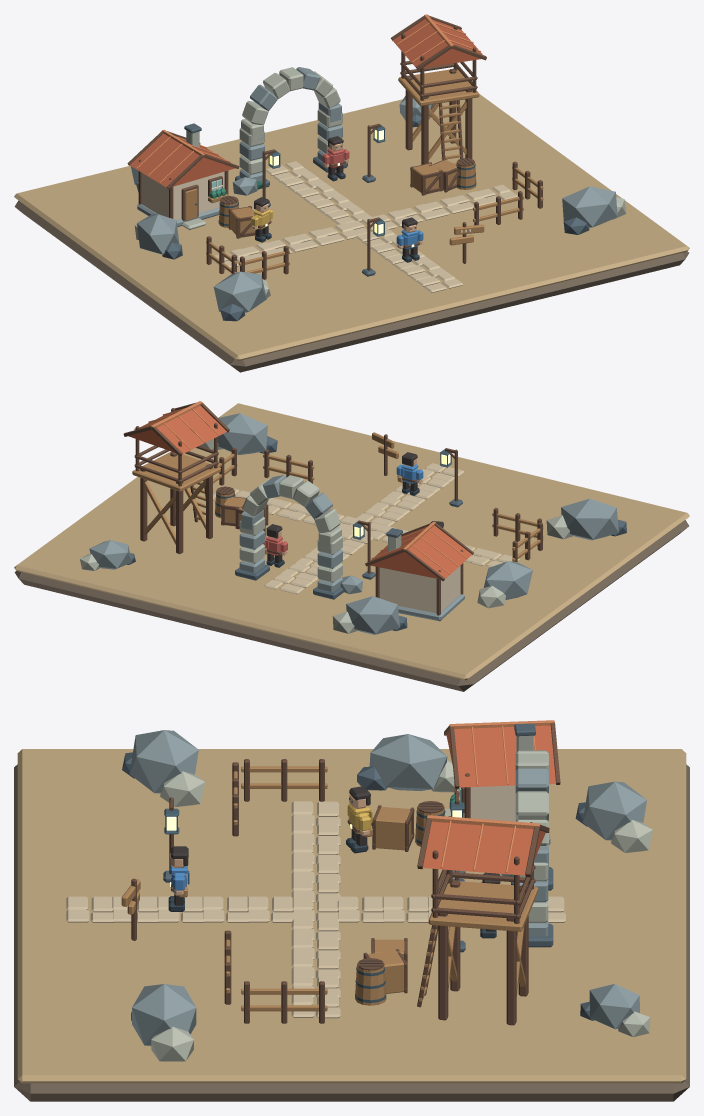
The model's file is abandoned-outpost.glb.
The picture shows the model from 3 angles, top to bottom: view 1: azimuth 30°, elevation 25°; view 2: azimuth 150°, elevation 25°; view 3: azimuth 270°, elevation 25°; orthographic projection. The views are drawn at different scales.
Visible parts, largest first — view 1: terrain-top, terrain-stratum, cottage-roof.001, tower-canopy.001, plaster-walls.001, rock.009, rock.003, tower-deck.001, rock.006; view 2: terrain-top, terrain-stratum, cottage-roof.001, plaster-walls.001, tower-canopy.001, rock.003, rock.015, rock.009, tower-deck.001, rock.006, rock.012, foundation.001 (+5 smaller); view 3: terrain-top, terrain-stratum, tower-canopy.001, cottage-roof.001, rock.006, rock.003, tower-deck.001, rock.009, rock.015, rock.012, plaster-walls.001, crate-body.003 (+11 smaller).
Part boxes in pixels (x1,y1,x2,y2): terrain-top: (14,94,689,360); terrain-stratum: (14,200,688,372); cottage-roof.001: (129,133,234,187); tower-canopy.001: (392,19,482,67); plaster-walls.001: (141,171,224,219); rock.009: (562,186,617,227); rock.003: (213,271,266,312); tower-deck.001: (398,69,479,106); rock.006: (137,213,179,254); terrain-top: (14,403,689,680); terrain-stratum: (14,520,688,691); cottage-roof.001: (370,525,472,579); plaster-walls.001: (379,565,460,613); tower-canopy.001: (128,405,226,454); rock.003: (561,498,618,540); rock.015: (346,596,399,634); rock.009: (217,413,267,454); tower-deck.001: (132,452,220,491); rock.006: (483,561,532,599); rock.012: (89,540,131,569); foundation.001: (398,594,464,621); terrain-top: (17,749,686,1083); terrain-stratum: (14,764,689,1101); tower-canopy.001: (422,821,545,875); cottage-roof.001: (446,725,555,787); rock.006: (369,734,447,790); rock.003: (129,730,198,793); tower-deck.001: (428,881,538,931); rock.009: (132,984,196,1046); rock.015: (582,781,646,840); rock.012: (589,984,639,1029); plaster-walls.001: (463,785,515,821); crate-body.003: (376,807,411,850).
Bounding box in the file's own units: 21 × 6.38 × 18.
